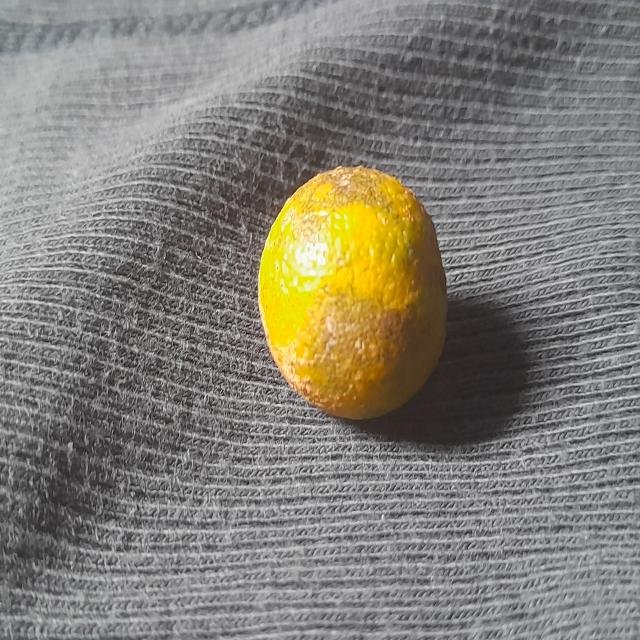black spot: (256, 155, 470, 431)
